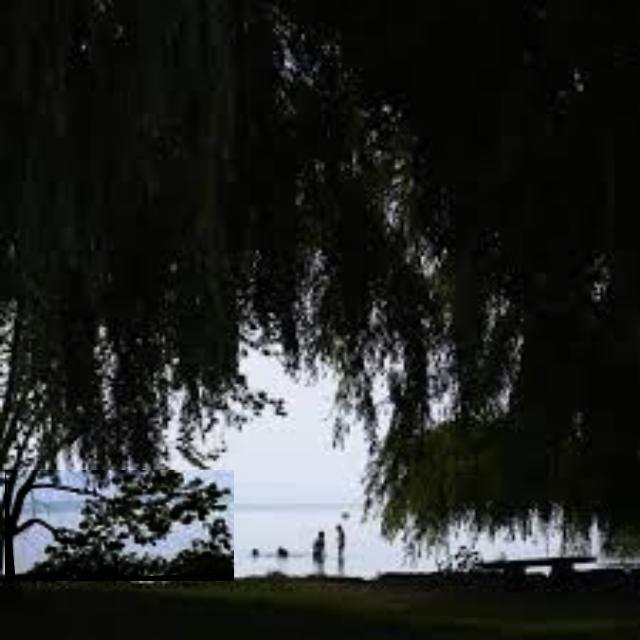fallen_tree: (5, 470, 235, 582)
